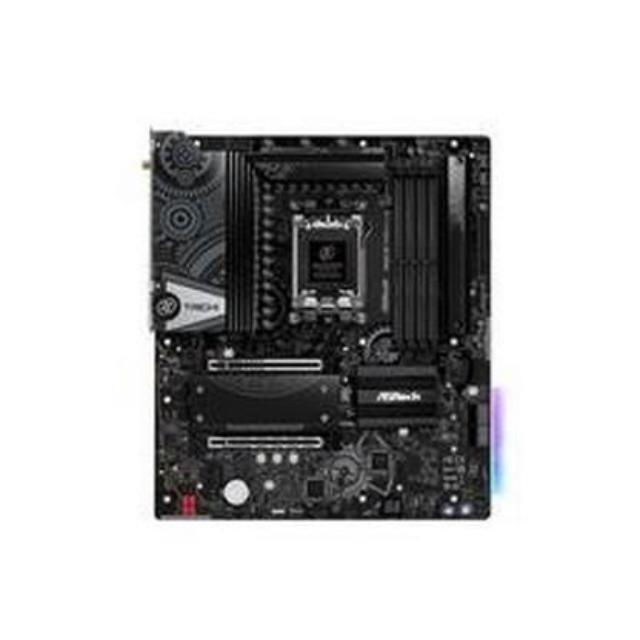Mainboard: (137, 115, 500, 536)
